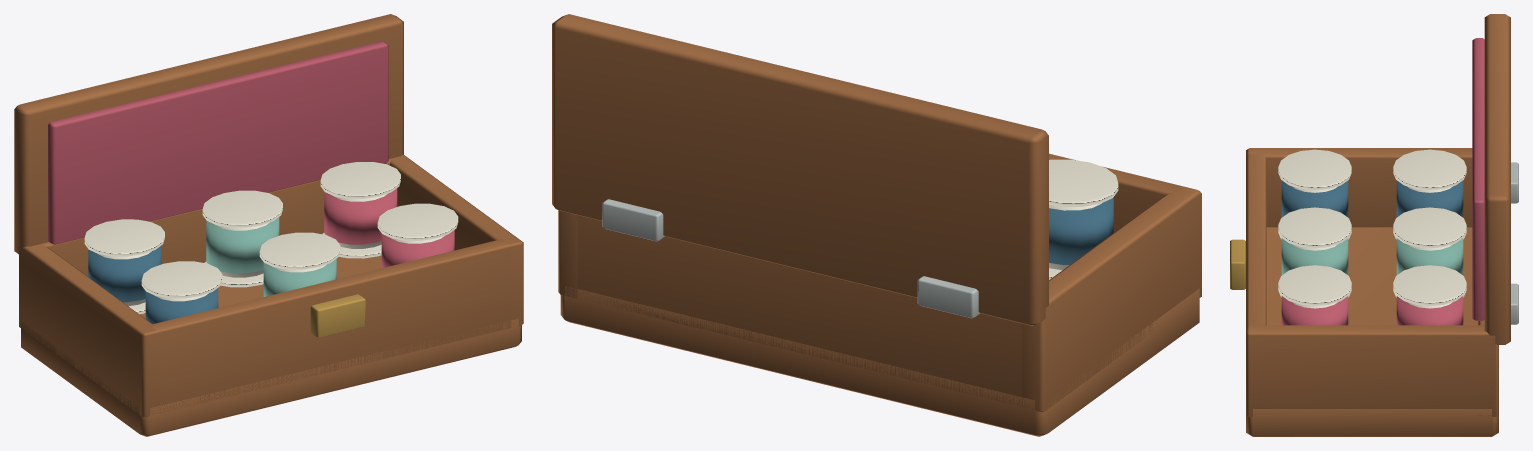
The model's file is P092_sewing_kit_rebuilt.glb.
3 renders of one model, left to right at view 1: azimuth 30°, elevation 25°; view 2: azimuth 150°, elevation 25°; view 3: azimuth 270°, elevation 25°, orthographic. The views are drawn at different scales.
Visible parts, largest first — view 1: wood, pink, white, green, blue, gold; view 2: wood, silver, white, blue; view 3: wood, white, pink, green, blue, gold, silver.
Part boxes in pixels (x1,y1,x2,y2): wood: [14, 14, 523, 436]; pink: [48, 41, 454, 267]; white: [84, 162, 458, 314]; green: [206, 217, 336, 296]; blue: [88, 246, 218, 323]; gold: [310, 294, 365, 337]; wood: [552, 14, 1201, 436]; silver: [602, 199, 980, 318]; white: [1049, 159, 1118, 279]; blue: [1049, 198, 1113, 264]; wood: [1246, 14, 1510, 436]; white: [1278, 149, 1466, 308]; pink: [1281, 38, 1484, 325]; green: [1281, 238, 1463, 275]; blue: [1281, 180, 1463, 217]; gold: [1230, 239, 1245, 289]; silver: [1511, 162, 1518, 324].
Bounding box in the file's own units: 0.23 × 0.1385 × 0.15.
